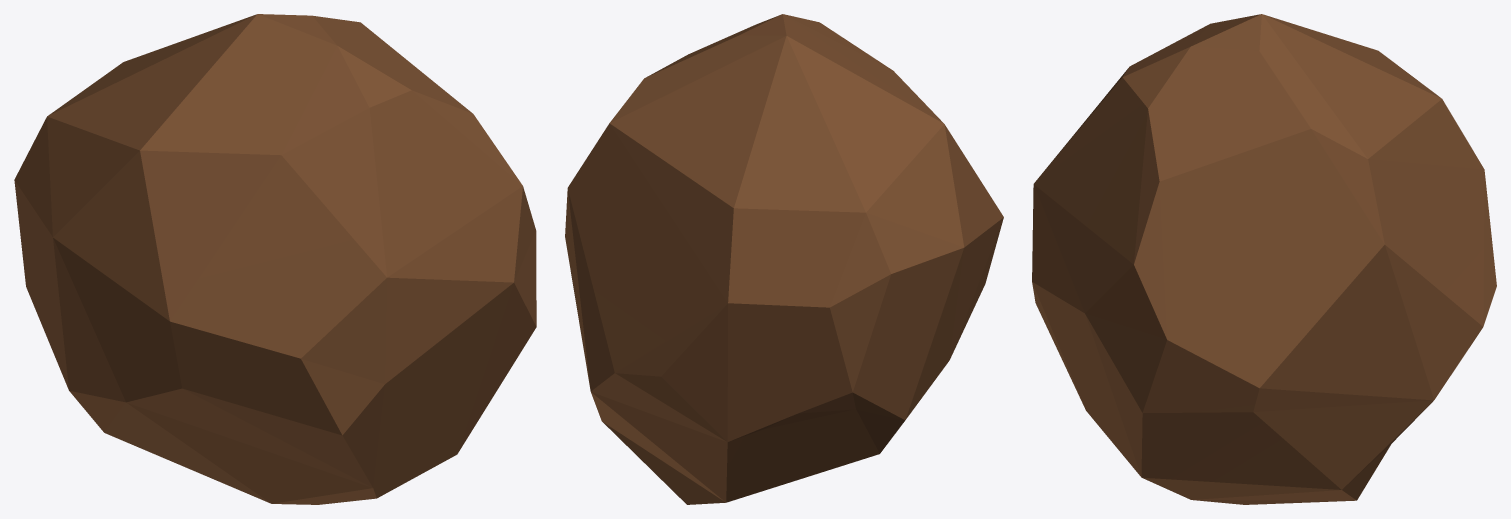
Rendered from Rolling Rock.fbx.
3 renders of one model, left to right at view 1: azimuth 30°, elevation 25°; view 2: azimuth 150°, elevation 25°; view 3: azimuth 270°, elevation 25°, orthographic. The views are drawn at different scales.
Visible parts, largest first — view 1: SM_Env_Rock_Round_03; view 2: SM_Env_Rock_Round_03; view 3: SM_Env_Rock_Round_03.
Part boxes in pixels (<box>): SM_Env_Rock_Round_03: <box>14,14,536,504</box>; SM_Env_Rock_Round_03: <box>565,14,1003,504</box>; SM_Env_Rock_Round_03: <box>1032,14,1496,504</box>.
Bounding box in the file's own units: 82.49 × 88.57 × 79.86.
